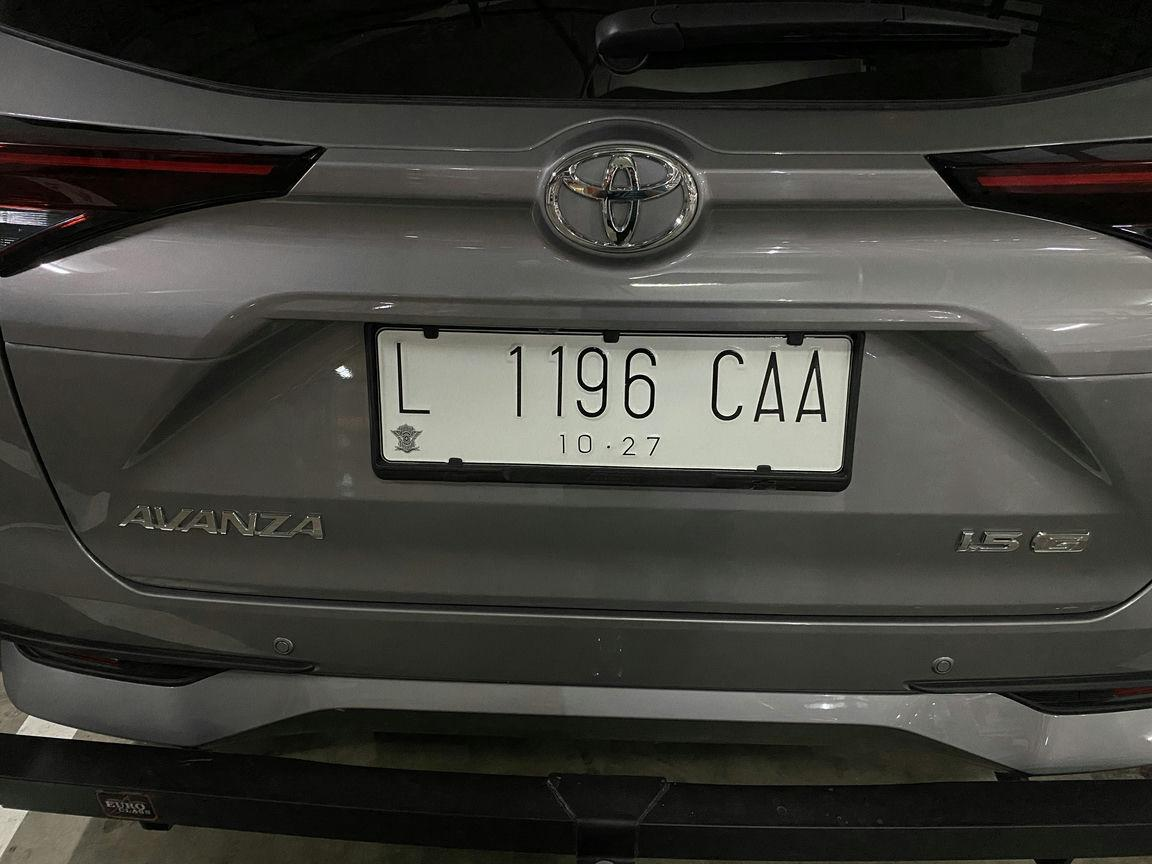plat: (371, 326, 860, 491)
